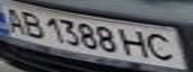1: (36, 15, 63, 43)
3: (57, 17, 78, 47)
8: (93, 24, 118, 55), (75, 20, 96, 52)
A: (0, 3, 30, 34)
B: (15, 8, 48, 38)
C: (142, 30, 184, 63)
H: (121, 27, 154, 60)
